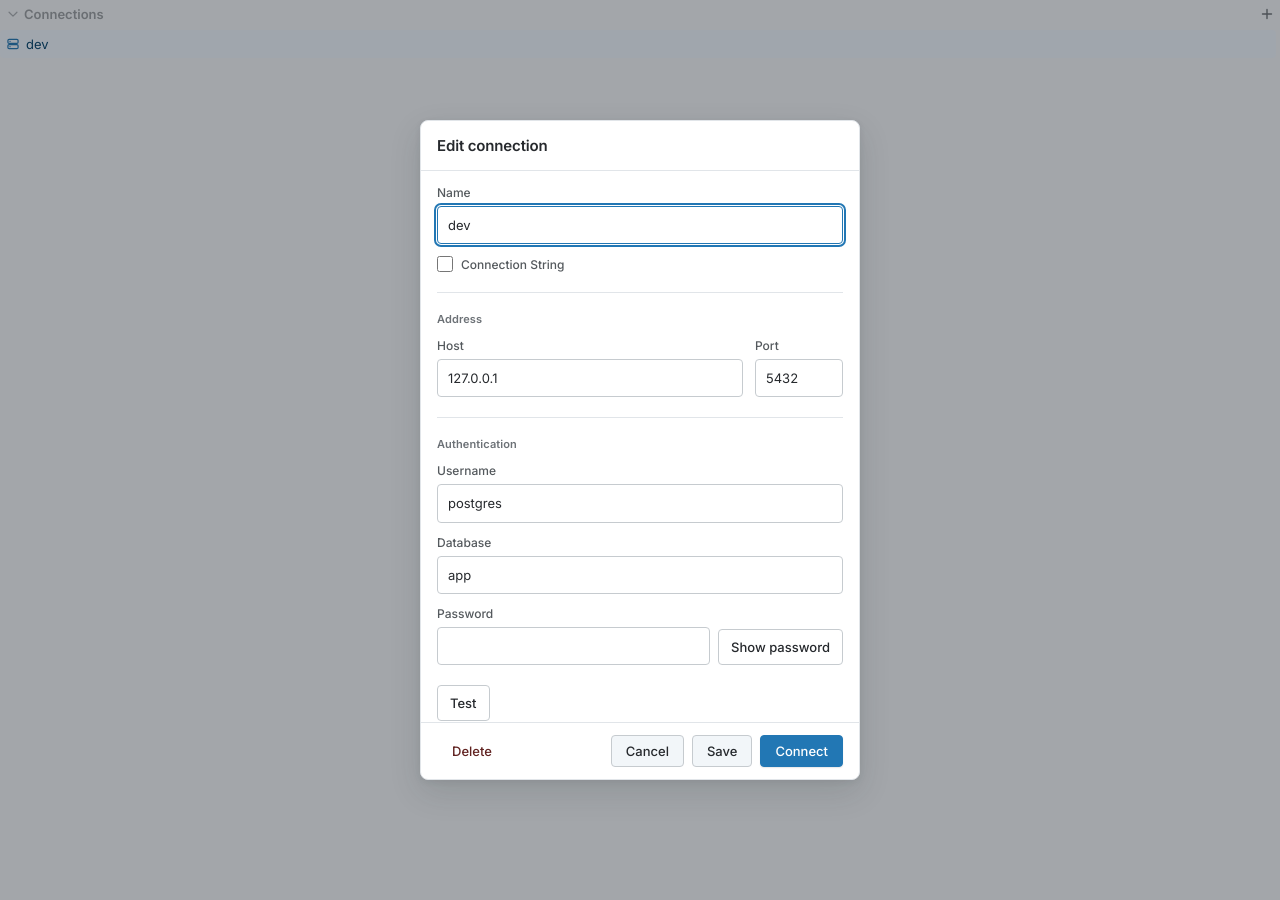
Test: ConnectionPanel session-action ownership › disables header actions while a confirm is pending
Click the button "Delete" at {"x": 472, "y": 751}, box [437,735,507,767]
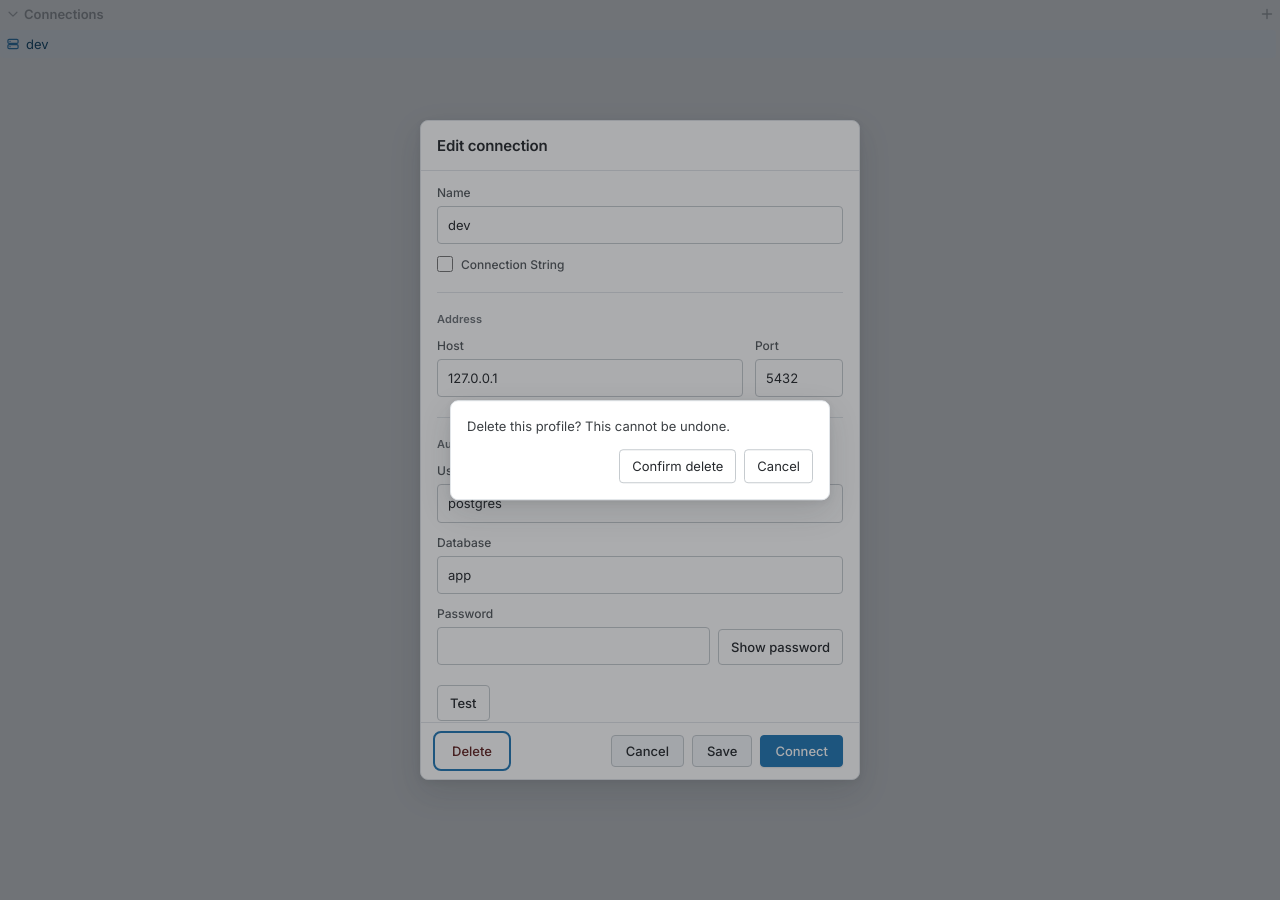
Expected: the button "Confirm delete" is shown, [619,449,736,483]
Expected: the button named "New profile" is disabled, [1254,1,1279,27]
